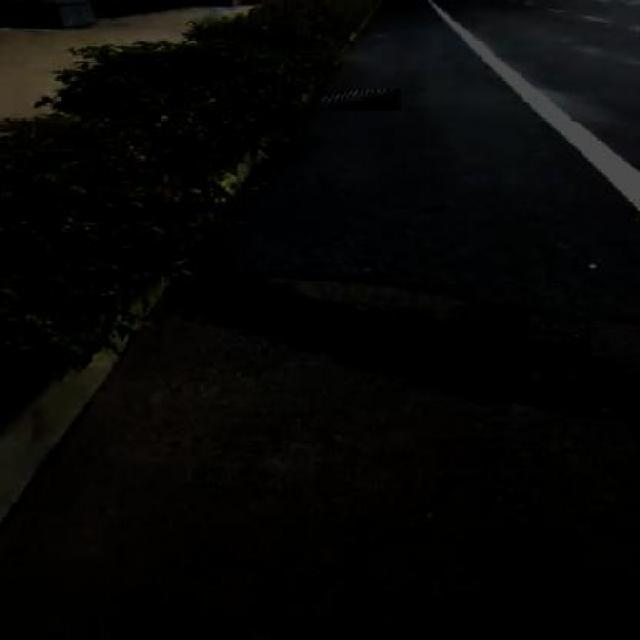Manhole: (318, 83, 397, 100)
